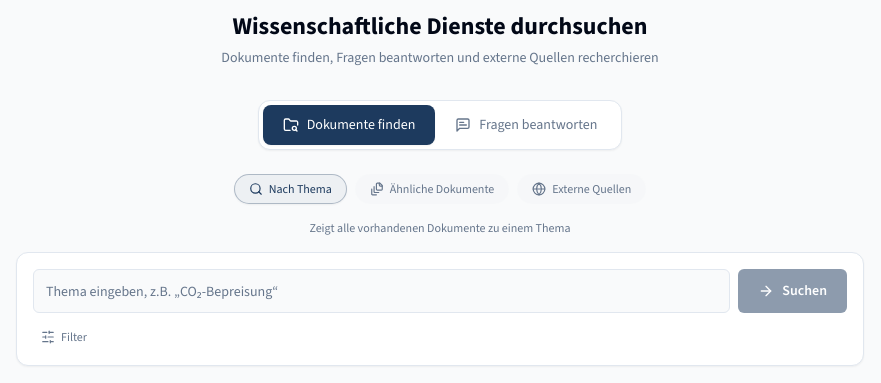
Test case: the prompt editor › is offered to a reviewer
Click the button "Fragen beantworten": click(526, 125) [435, 105, 617, 145]
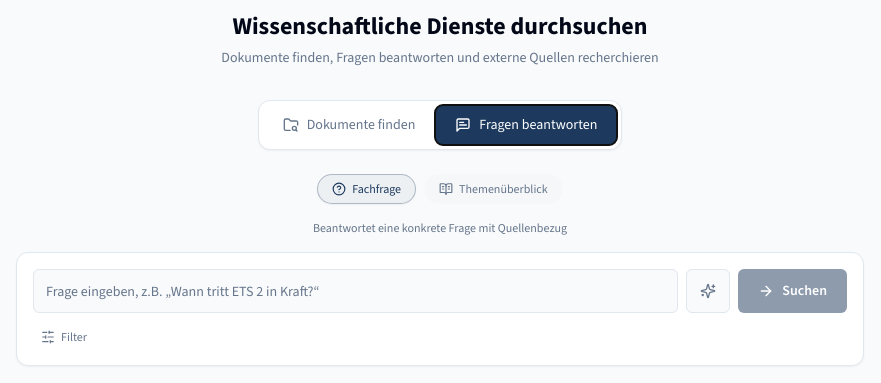
Now the button titled "KI-Anweisungen" is shown, box [686, 269, 730, 313]
